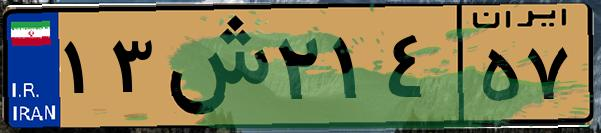1: (330, 28, 385, 110), (57, 26, 110, 100)
2: (270, 28, 330, 110)
3: (110, 28, 158, 98)
4: (385, 28, 445, 110)
5: (475, 38, 525, 113)
7: (525, 38, 570, 115)
ش: (158, 12, 270, 120)
